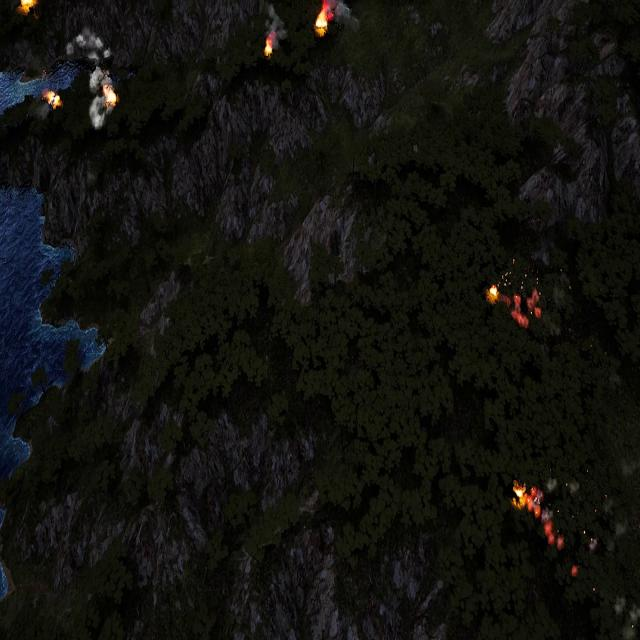fire: (486, 279, 540, 327), (511, 479, 542, 518), (314, 1, 331, 37), (15, 0, 41, 14), (45, 92, 61, 109), (264, 38, 275, 56)
smoke: (545, 470, 640, 630), (68, 25, 114, 133)
